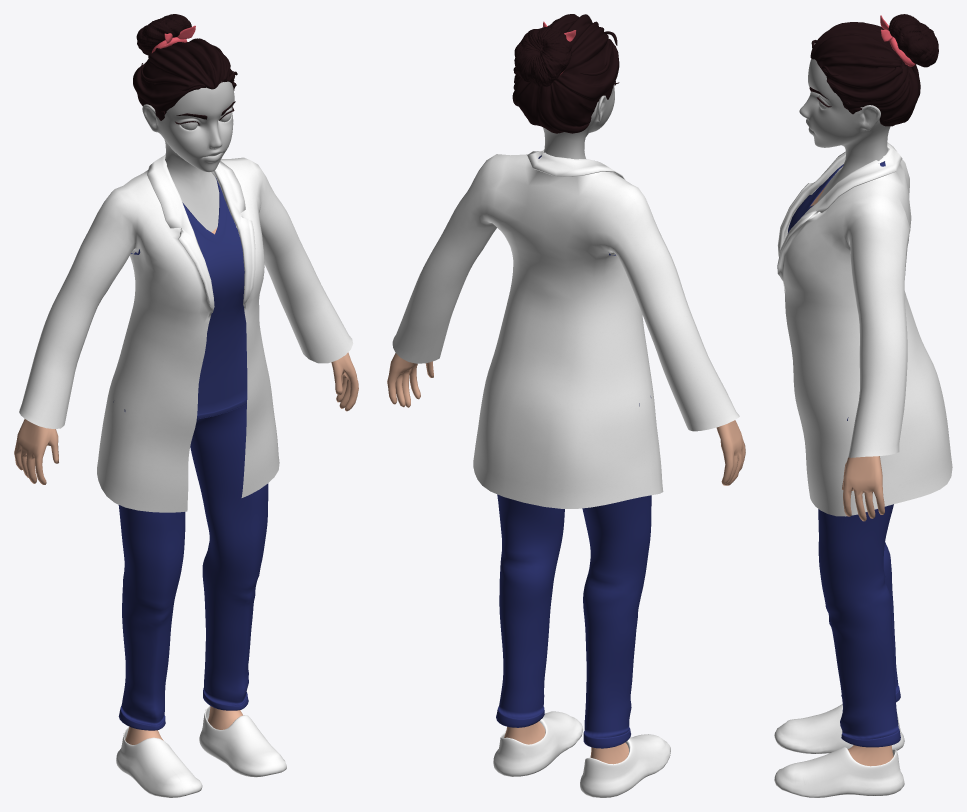
Rendered from Doctora 2.fbx.
3 renders of one model, left to right at view 1: azimuth 30°, elevation 25°; view 2: azimuth 150°, elevation 25°; view 3: azimuth 270°, elevation 25°, orthographic. The views are drawn at different scales.
Parts seen in each view (by area): view 1: BATA_LOW.001, Pantalon_low.002, camisa_low.002, Face_low.002, Zapatos_low.003, Base_head_low.003, Body_low.002, Bollo_low.002; view 2: BATA_LOW.001, Pantalon_low.002, Base_head_low.003, Zapatos_low.003, Body_low.002, Bollo_low.002, Face_low.002; view 3: BATA_LOW.001, Pantalon_low.002, Base_head_low.003, Zapatos_low.003, Face_low.002, Body_low.002, Bollo_low.002, camisa_low.002, Moña.002.
Boxes of the visible parts, x1=… form: BATA_LOW.001: x1=19, y1=154, x2=353, y2=512; Pantalon_low.002: x1=118, y1=362, x2=268, y2=730; camisa_low.002: x1=113, y1=177, x2=247, y2=419; Face_low.002: x1=142, y1=81, x2=234, y2=231; Zapatos_low.003: x1=116, y1=705, x2=286, y2=797; Base_head_low.003: x1=133, y1=38, x2=237, y2=120; Body_low.002: x1=14, y1=228, x2=358, y2=744; Bollo_low.002: x1=136, y1=14, x2=191, y2=55; BATA_LOW.001: x1=392, y1=149, x2=739, y2=508; Pantalon_low.002: x1=496, y1=494, x2=651, y2=748; Base_head_low.003: x1=512, y1=14, x2=619, y2=133; Zapatos_low.003: x1=493, y1=711, x2=670, y2=797; Body_low.002: x1=387, y1=353, x2=745, y2=764; Bollo_low.002: x1=514, y1=27, x2=571, y2=86; Face_low.002: x1=543, y1=82, x2=615, y2=159; BATA_LOW.001: x1=777, y1=142, x2=952, y2=516; Pantalon_low.002: x1=818, y1=504, x2=900, y2=747; Base_head_low.003: x1=810, y1=22, x2=920, y2=126; Zapatos_low.003: x1=774, y1=704, x2=904, y2=797; Face_low.002: x1=799, y1=58, x2=890, y2=201; Body_low.002: x1=810, y1=184, x2=893, y2=766; Bollo_low.002: x1=888, y1=14, x2=938, y2=67; camisa_low.002: x1=787, y1=161, x2=885, y2=420; Moña.002: x1=880, y1=15, x2=915, y2=66.
Bounding box in the file's own units: 244 × 511 × 110.
